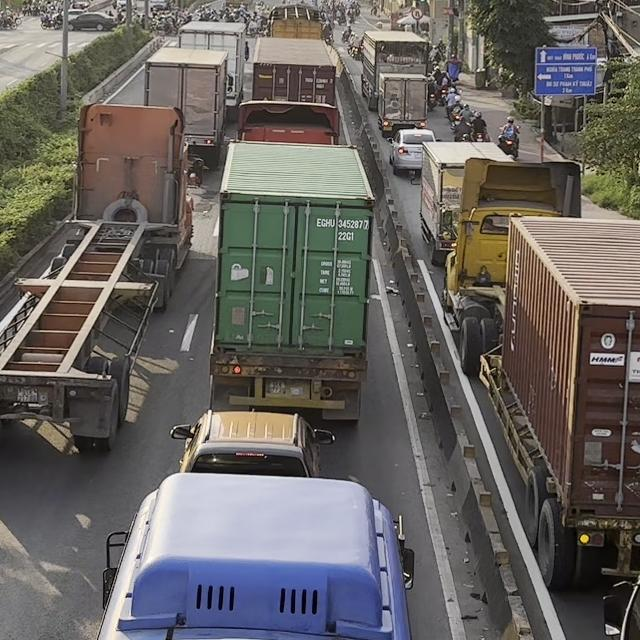bus: (96, 471, 414, 639)
car: (169, 408, 335, 477), (387, 127, 437, 175), (69, 12, 119, 31)
motorcycle: (499, 125, 520, 160), (449, 103, 466, 132)
truck: (440, 157, 639, 590), (0, 101, 205, 458), (209, 100, 376, 421), (408, 140, 515, 267), (143, 46, 233, 169), (176, 20, 250, 120), (358, 29, 431, 111), (252, 37, 337, 107), (375, 71, 429, 137), (266, 3, 324, 40)
